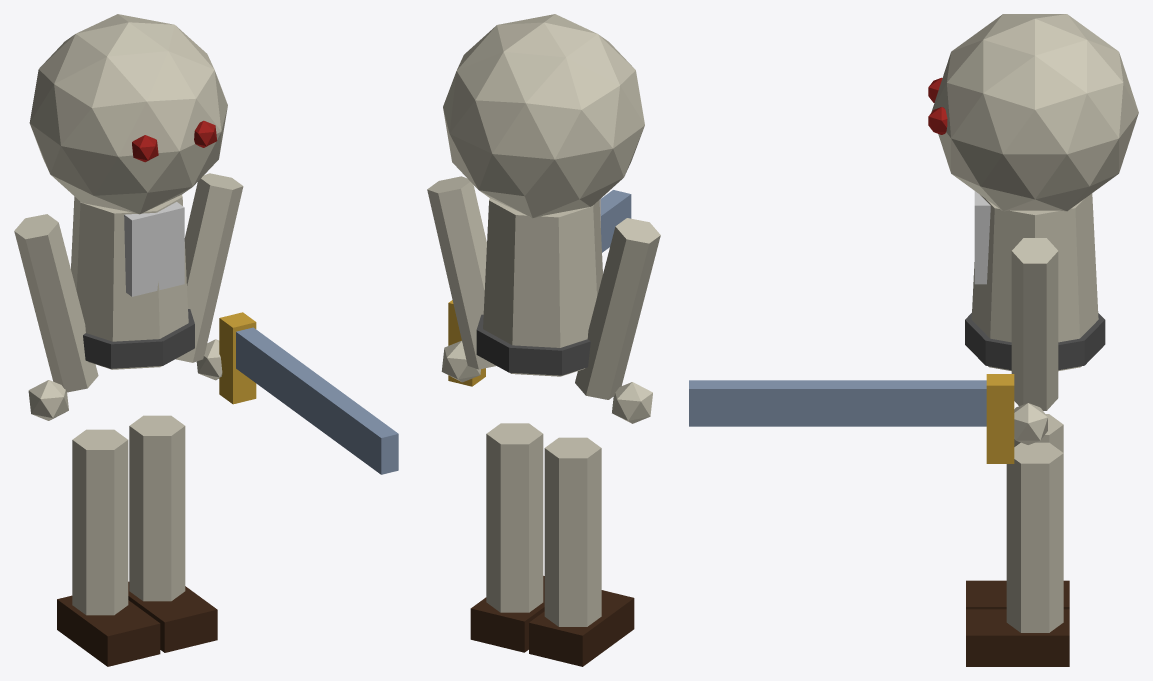
File: SM_GZ_mon_skeleton_warrior.fbx
3 renders of one model, left to right at view 1: azimuth 30°, elevation 25°; view 2: azimuth 150°, elevation 25°; view 3: azimuth 270°, elevation 25°, orthographic. The views are drawn at different scales.
Parts seen in each view (by area): view 1: SM_GZ_mon_skeleton_warrior; view 2: SM_GZ_mon_skeleton_warrior; view 3: SM_GZ_mon_skeleton_warrior.
Boxes of the visible parts, <box> form: SM_GZ_mon_skeleton_warrior: <box>14,14,398,666</box>; SM_GZ_mon_skeleton_warrior: <box>427,14,660,666</box>; SM_GZ_mon_skeleton_warrior: <box>689,14,1138,666</box>.
Size of the model in its own units: 74.44 by 198 by 130.
